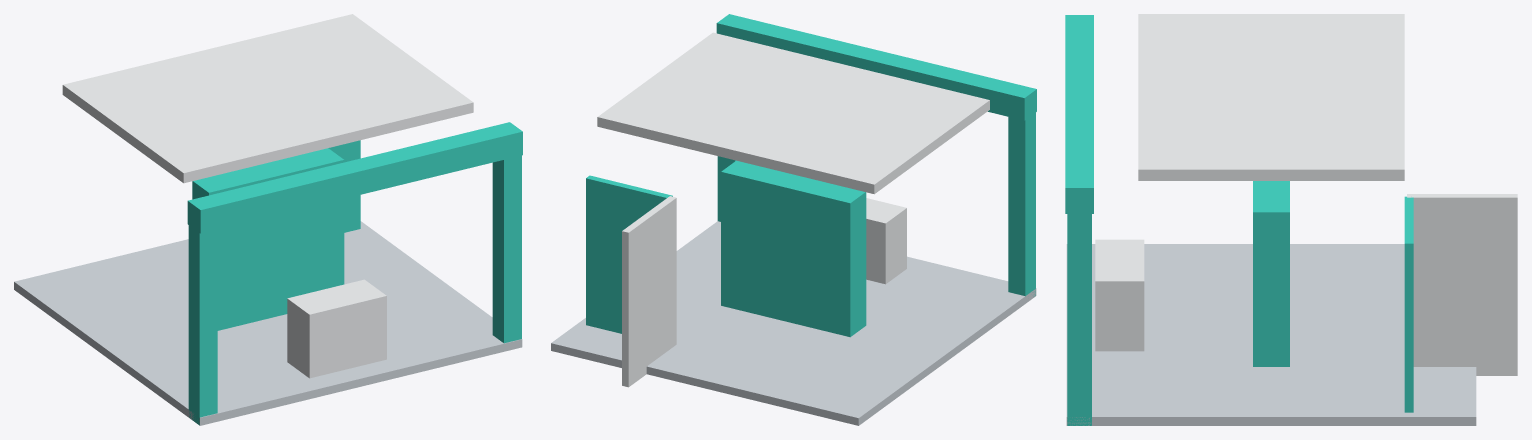
3 views of the same model, side by side, from view 1: azimuth 30°, elevation 25°; view 2: azimuth 150°, elevation 25°; view 3: azimuth 270°, elevation 25° (orthographic). The views are drawn at different scales.
Visible parts, largest first — view 1: Exhibition Booth Concept; view 2: Exhibition Booth Concept; view 3: Exhibition Booth Concept.
Part boxes in pixels (x1,y1,x2,y2): Exhibition Booth Concept: [14, 14, 522, 425]; Exhibition Booth Concept: [551, 14, 1036, 425]; Exhibition Booth Concept: [1065, 14, 1517, 425].
Bounding box in the file's own units: 5 × 3.34 × 5.52.
